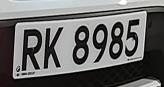5: (124, 15, 140, 61)
8: (70, 21, 91, 69), (109, 15, 126, 64)
9: (91, 19, 109, 66)
K: (42, 23, 63, 72)
R: (19, 26, 44, 75)
